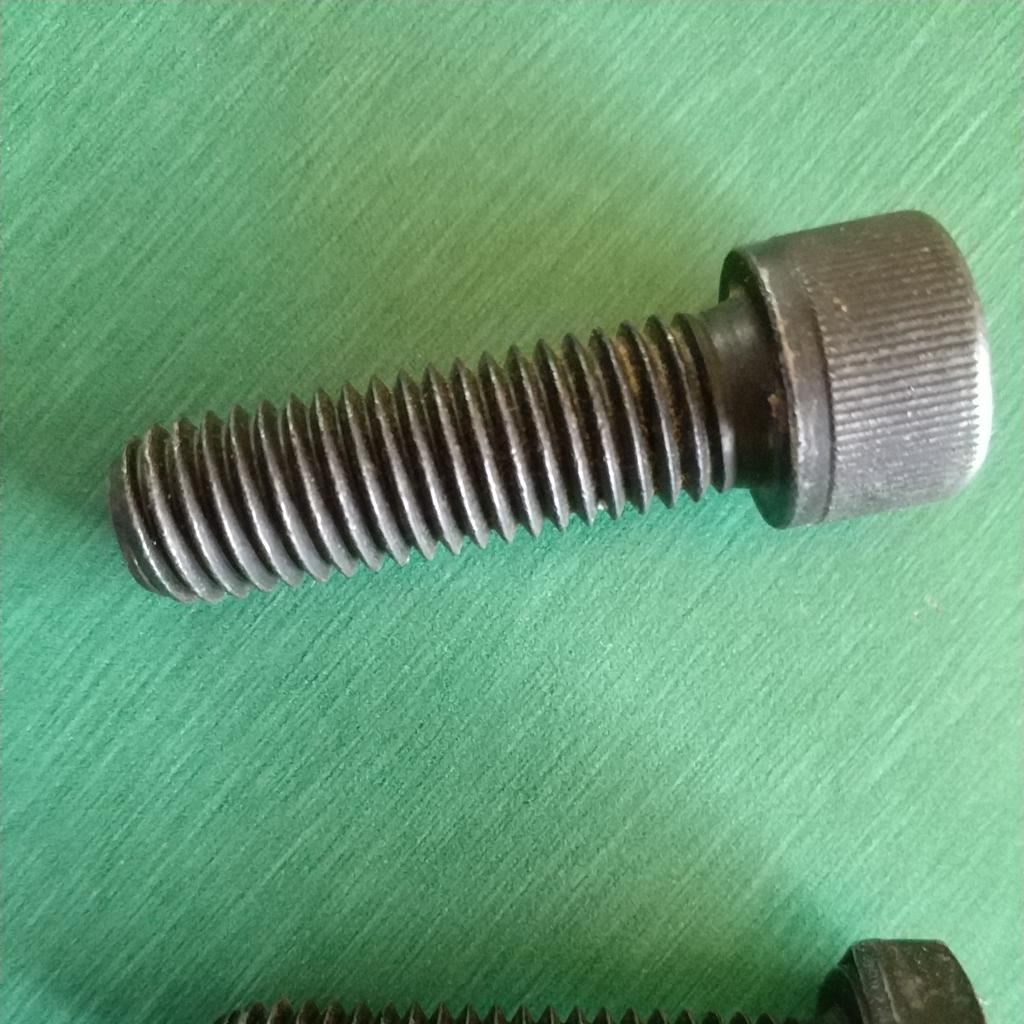screwtype1black: (97, 207, 1000, 619)
screwtype2black: (188, 931, 1007, 1024)
